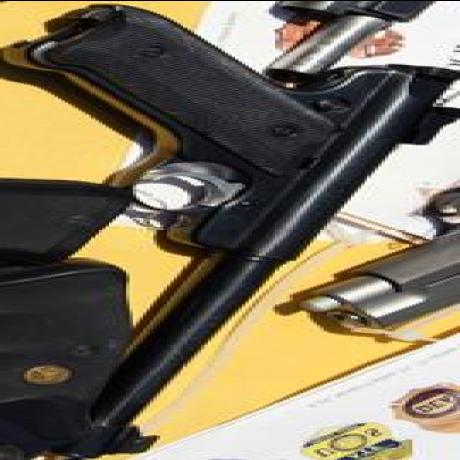weapon: (6, 2, 436, 436)
